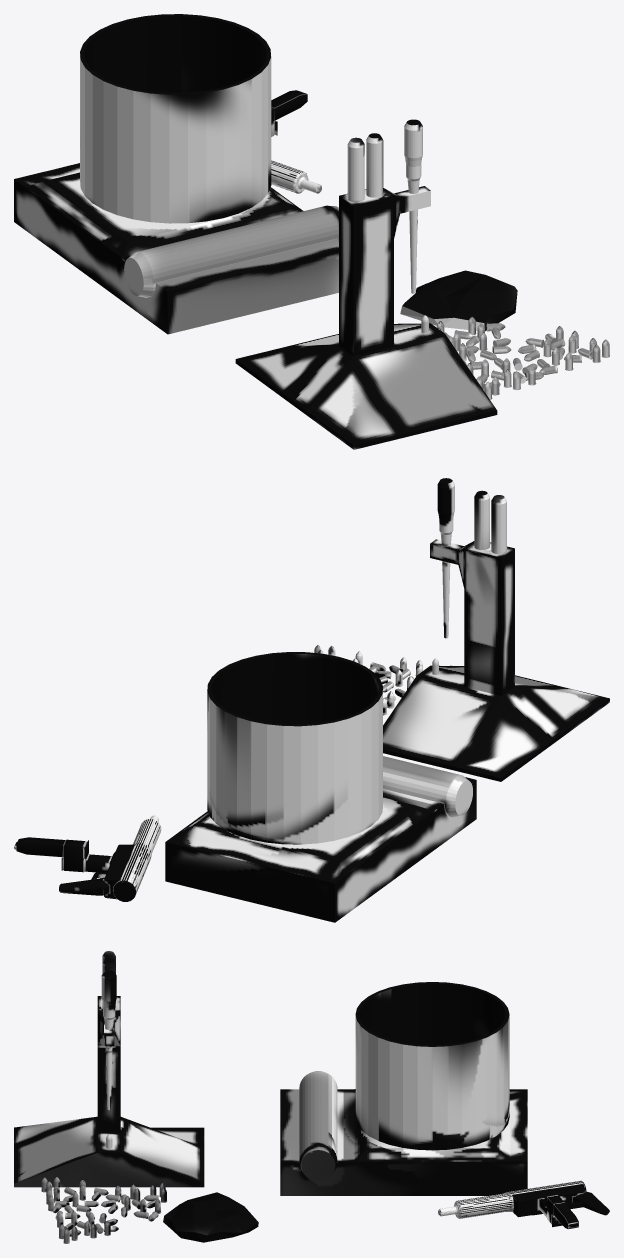
The model's file is table 2.fbx.
The picture shows the model from 3 angles, top to bottom: view 1: azimuth 30°, elevation 25°; view 2: azimuth 150°, elevation 25°; view 3: azimuth 270°, elevation 25°; orthographic projection. The views are drawn at different scales.
Parts seen in each view (by area): view 1: Plane; view 2: Plane; view 3: Plane.
Boxes of the visible parts, <box> form: Plane: <box>14,14,609,449</box>; Plane: <box>14,478,609,922</box>; Plane: <box>14,951,609,1243</box>.
Size of the model in its own units: 161 by 121 by 313.
